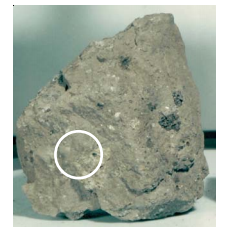Breccia: (14, 7, 209, 217)
